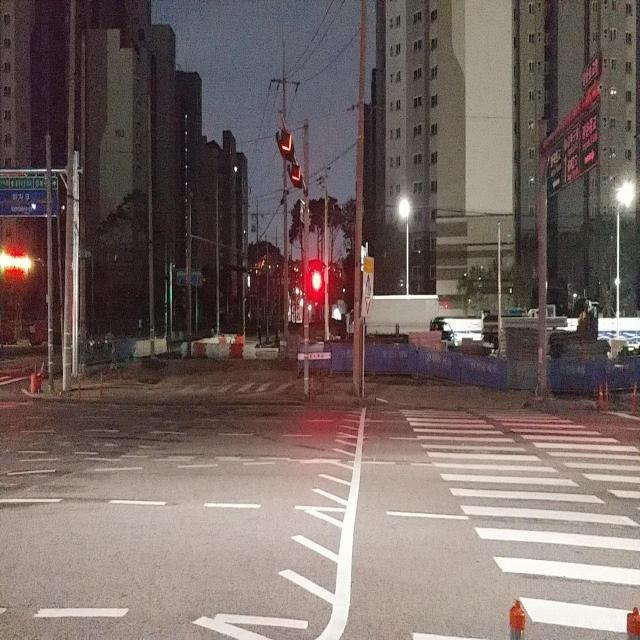횡단보도: (398, 406, 640, 636)
